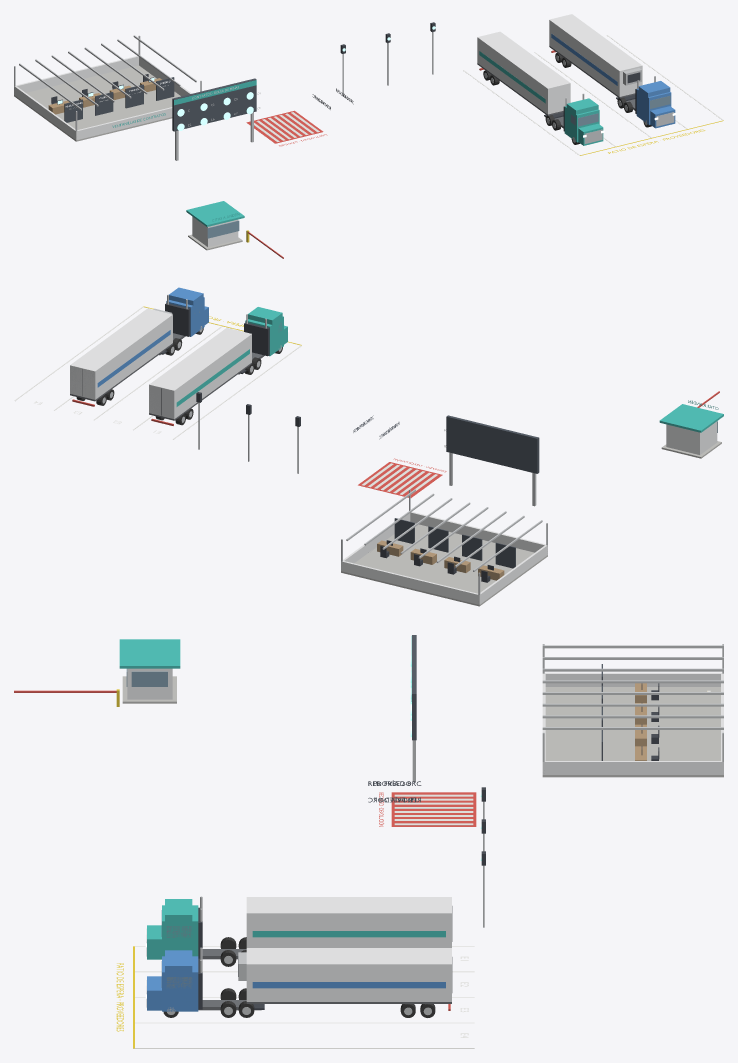
File: contratos_patio.glb
3 renders of one model, top to bottom at view 1: azimuth 30°, elevation 25°; view 2: azimuth 150°, elevation 25°; view 3: azimuth 270°, elevation 25°, orthographic. The views are drawn at different scales.
Parts seen in each view (by area): view 1: CT_Oficina_Ventanillas, CT_Camion_Proveedor_Seco, CT_Camion_Proveedor_Frio, CT_Tablero_Contratos, CT_Caseta_Acceso, CT_Zona_Rechazo, CT_Patio_Lineas, CT_Escritorio_ADQUISICIONES, CT_Escritorio_FINANZAS, CT_Escritorio_CALIDAD, CT_Escritorio_JURIDICO; view 2: CT_Oficina_Ventanillas, CT_Camion_Proveedor_Frio, CT_Camion_Proveedor_Seco, CT_Tablero_Contratos, CT_Caseta_Acceso, CT_Zona_Rechazo, CT_Patio_Lineas, CT_Escritorio_ADQUISICIONES, CT_Escritorio_CALIDAD, CT_Escritorio_FINANZAS, CT_Escritorio_JURIDICO; view 3: CT_Oficina_Ventanillas, CT_Camion_Proveedor_Frio, CT_Camion_Proveedor_Seco, CT_Caseta_Acceso, CT_Zona_Rechazo, CT_Patio_Lineas, CT_Tablero_Contratos.
Boxes of the visible parts, x1,y1,x2,y2 form: CT_Oficina_Ventanillas: (14, 35, 201, 141); CT_Camion_Proveedor_Seco: (477, 31, 604, 145); CT_Camion_Proveedor_Frio: (549, 14, 676, 128); CT_Tablero_Contratos: (172, 78, 256, 160); CT_Caseta_Acceso: (186, 201, 283, 258); CT_Zona_Rechazo: (246, 110, 323, 143); CT_Patio_Lineas: (463, 35, 723, 155); CT_Escritorio_ADQUISICIONES: (48, 96, 82, 122); CT_Escritorio_FINANZAS: (109, 81, 143, 108); CT_Escritorio_CALIDAD: (79, 89, 113, 115); CT_Escritorio_JURIDICO: (140, 74, 174, 100); CT_Oficina_Ventanillas: (341, 489, 547, 606); CT_Camion_Proveedor_Frio: (70, 287, 209, 406); CT_Camion_Proveedor_Seco: (149, 307, 289, 425); CT_Tablero_Contratos: (446, 415, 539, 506); CT_Caseta_Acceso: (659, 391, 723, 458); CT_Zona_Rechazo: (358, 462, 442, 497); CT_Patio_Lineas: (14, 306, 301, 439); CT_Escritorio_ADQUISICIONES: (478, 542, 515, 582); CT_Escritorio_CALIDAD: (444, 534, 482, 574); CT_Escritorio_FINANZAS: (410, 526, 448, 566); CT_Escritorio_JURIDICO: (377, 518, 414, 558); CT_Oficina_Ventanillas: (542, 644, 723, 777); CT_Camion_Proveedor_Frio: (145, 947, 452, 1017); CT_Camion_Proveedor_Seco: (145, 896, 452, 966); CT_Caseta_Acceso: (14, 639, 180, 706); CT_Zona_Rechazo: (391, 792, 476, 826); CT_Patio_Lineas: (133, 946, 474, 1048); CT_Tablero_Contratos: (411, 635, 416, 782).
Size of the model in its own units: 58.16 by 6.6 by 47.
